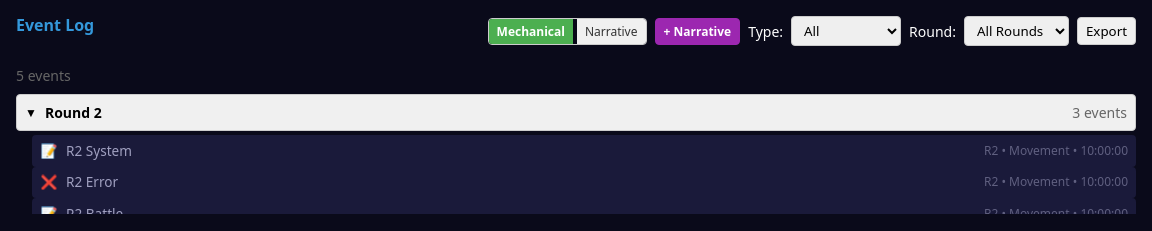
Test case: EventLog › combined filtering › should update event count with combined filters
Select "System" in the dropdown labelled "Type:": (846, 31) [791,16,901,46]
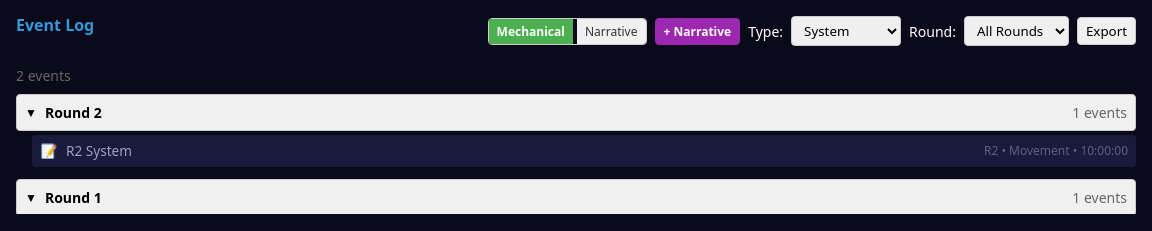
Select "Round 2" in the dropdown labelled "Round:": (1016, 31) [964,16,1069,46]
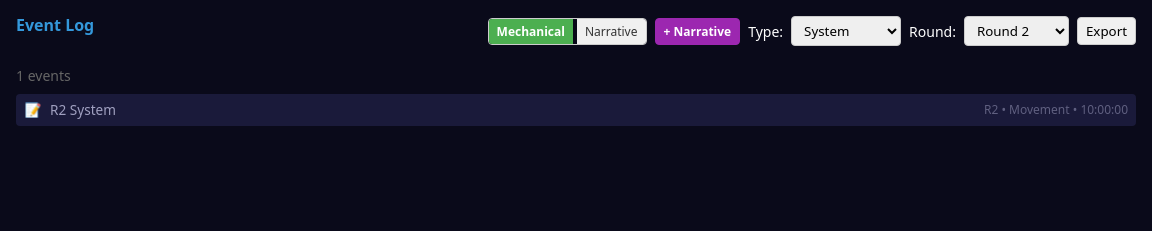
Now the text "1 events" is shown, box [16,66,71,85]
